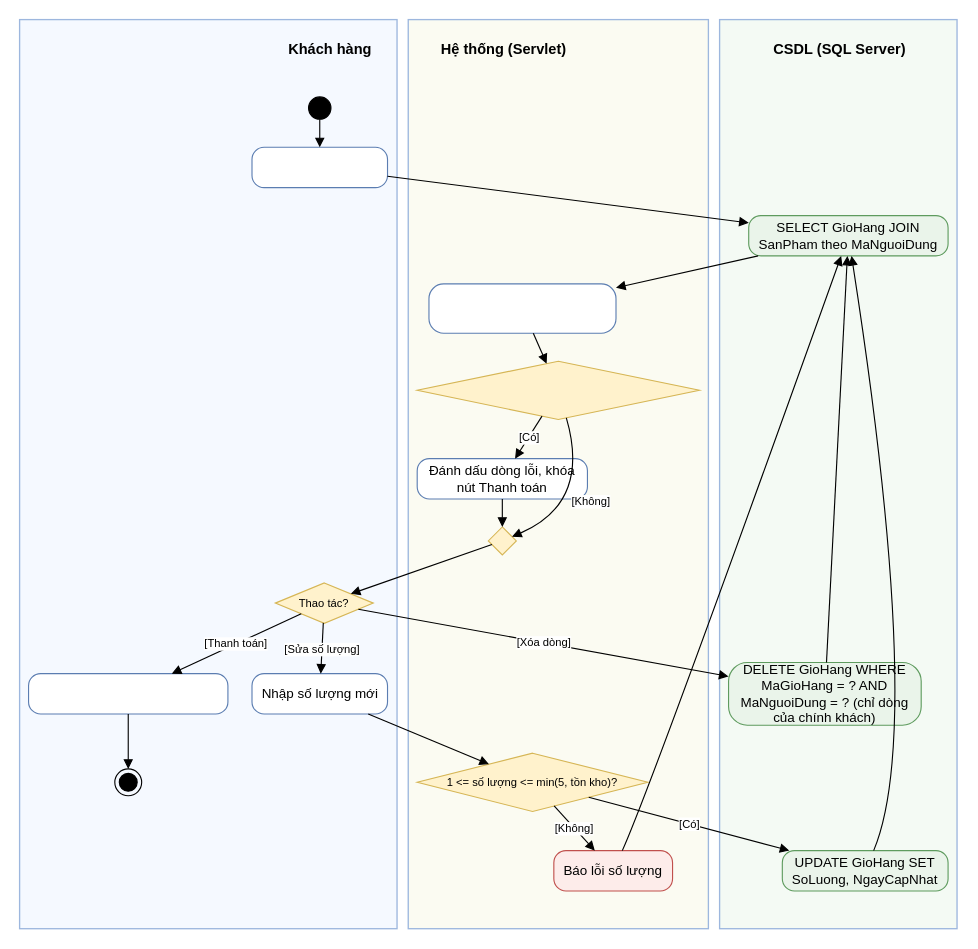
This 978x949 diagram has some shape labels left out. Here are the shapes that lost their labels. From the top down, the box of each, then its label:
(251, 146, 388, 188): Mở trang Giỏ hàng
(428, 283, 616, 333): Tính giá hiện hành (S03), thành tiền từng dòng, tổng tiền (miễn phí vận chuyển)
(416, 360, 699, 419): Có dòng SP ngừng bán hoặc vượt tồn kho?
(27, 673, 228, 714): Bấm Thanh toán (xem AD12)
